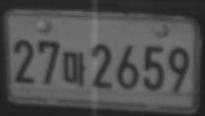2: (13, 39, 36, 84), (90, 43, 111, 89)
5: (143, 45, 165, 91)
6: (116, 45, 139, 89)
7: (38, 40, 60, 85)
9: (168, 47, 190, 93)
마: (63, 49, 87, 88)
